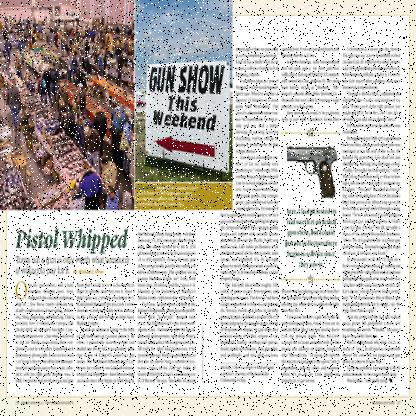pistol: (285, 145, 336, 202)
